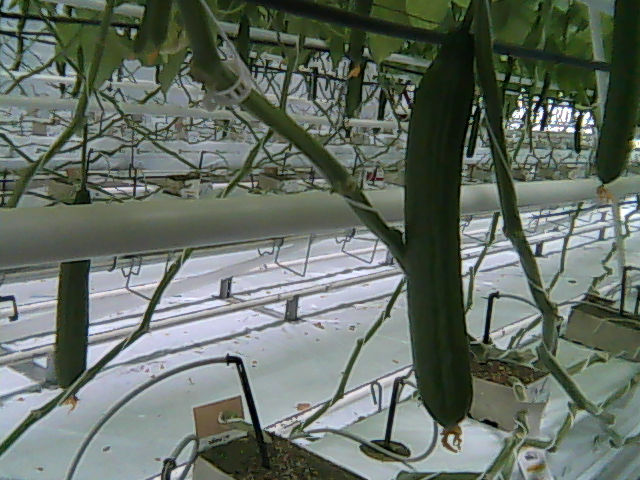concombre: (402, 18, 483, 451), (588, 1, 640, 201)
